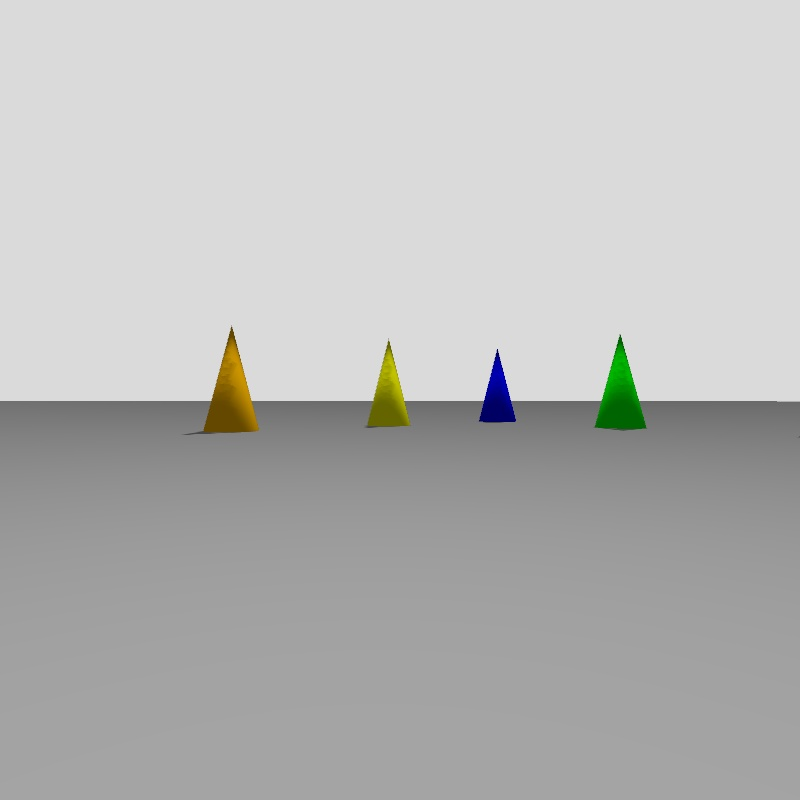Blue_cone: (479, 350, 514, 421)
Green_cone: (596, 336, 646, 429)
Orange_cone: (203, 328, 258, 432)
Yellow_cone: (368, 341, 409, 426)
